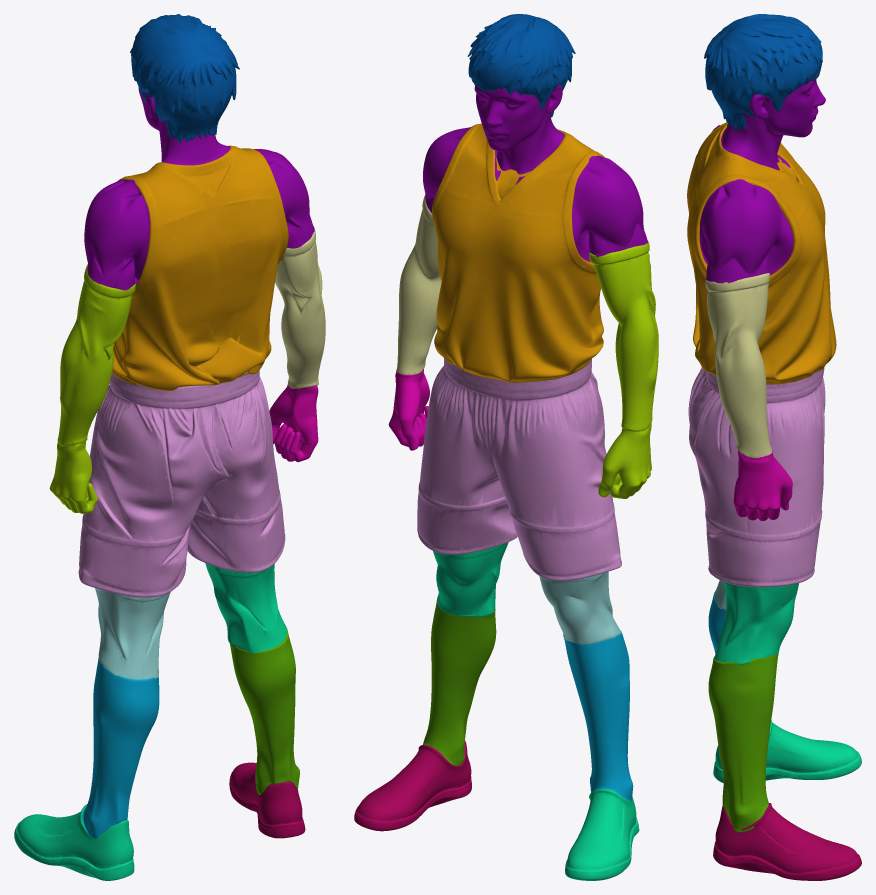
The model's file is 武哲锋模型分割版_压缩.glb.
3 renders of one model, left to right at view 1: azimuth 30°, elevation 25°; view 2: azimuth 150°, elevation 25°; view 3: azimuth 270°, elevation 25°, orthographic. The views are drawn at different scales.
Visible parts, largest first — view 1: part_10, part_0, part_3, part_1, part_8, part_6, part_5, part_9, part_2, part_11, part_7, part_4; view 2: part_10, part_0, part_3, part_6, part_1, part_5, part_9, part_8, part_7, part_2, part_11, part_4; view 3: part_10, part_0, part_3, part_8, part_1, part_9, part_2, part_7, part_4, part_5.
Boxes of the visible parts, box(x1,y1,x2,y2) form: part_10: box(78, 370, 285, 597); part_0: box(112, 145, 288, 390); part_3: box(84, 87, 314, 290); part_1: box(14, 563, 286, 880); part_8: box(130, 14, 239, 143); part_6: box(49, 264, 135, 513); part_5: box(82, 657, 159, 838); part_9: box(229, 627, 299, 794); part_2: box(275, 229, 325, 388); part_11: box(95, 588, 170, 679); part_7: box(229, 762, 305, 838); part_4: box(269, 384, 318, 462); part_10: box(417, 358, 621, 580); part_0: box(432, 123, 605, 382); part_3: box(423, 85, 648, 262); part_6: box(589, 242, 658, 498); part_1: box(433, 542, 639, 880); part_5: box(563, 631, 633, 801); part_9: box(423, 598, 496, 765); part_8: box(467, 14, 575, 117); part_7: box(354, 740, 471, 831); part_2: box(396, 194, 441, 374); part_11: box(539, 571, 621, 644); part_4: box(388, 369, 429, 450); part_10: box(688, 367, 825, 587); part_0: box(687, 122, 836, 384); part_3: box(699, 78, 825, 283); part_8: box(704, 14, 822, 130); part_1: box(713, 582, 861, 782); part_9: box(708, 653, 778, 832); part_2: box(705, 273, 772, 458); part_7: box(713, 803, 861, 880); part_4: box(733, 450, 792, 521); part_5: box(708, 591, 725, 653).
Bounding box in the file's own units: 0.3838 × 1.14 × 0.2253.
